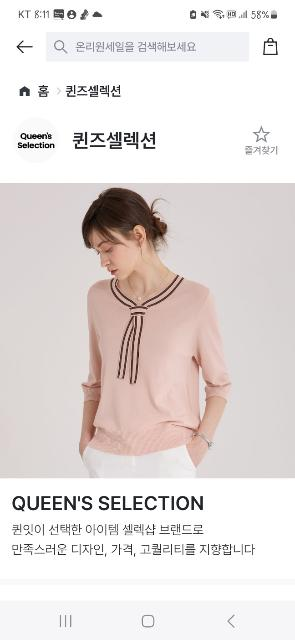EditText: (46, 30, 250, 62)
Icon: (253, 126, 271, 144), (16, 38, 34, 54), (264, 37, 278, 55), (53, 40, 67, 54), (20, 86, 30, 95), (57, 87, 61, 95)
Image: (0, 183, 295, 478), (14, 118, 60, 164)
Text: (12, 524, 256, 556), (12, 496, 204, 510), (74, 132, 156, 150), (76, 41, 196, 51), (67, 86, 121, 98), (246, 146, 278, 154), (38, 85, 48, 96)
Toolbar: (0, 30, 295, 68)
UpperTaskBar: (0, 0, 295, 29)
